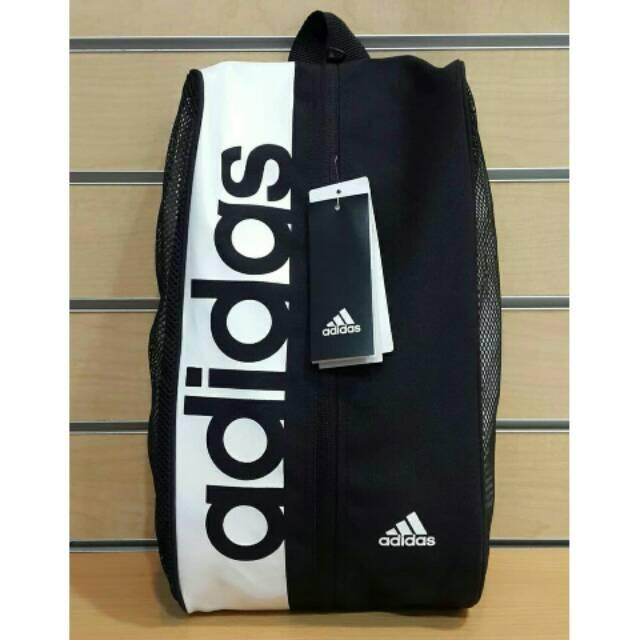Adidas: (182, 136, 296, 574), (378, 510, 438, 552), (320, 304, 366, 338), (379, 511, 436, 535), (322, 306, 362, 329), (380, 536, 436, 546), (321, 324, 362, 337)
